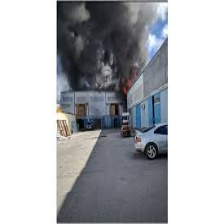smoke: (56, 1, 160, 91)
